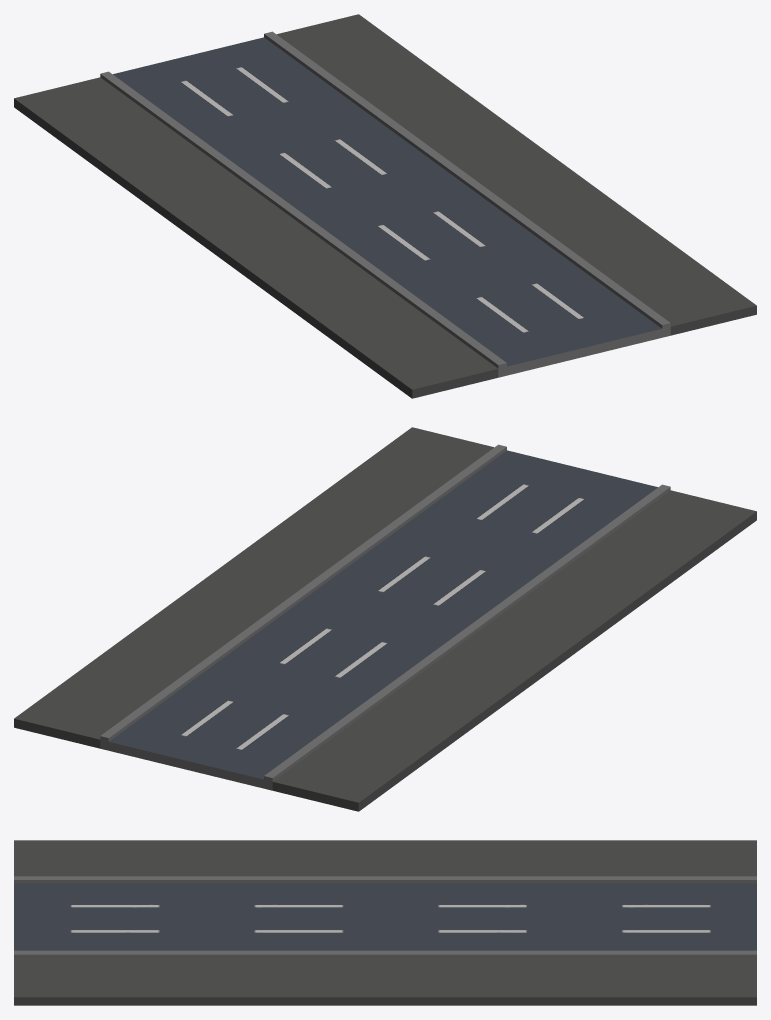
The model's file is roadwithblock2.fbx.
3 renders of one model, top to bottom at view 1: azimuth 30°, elevation 25°; view 2: azimuth 150°, elevation 25°; view 3: azimuth 270°, elevation 25°, orthographic. The views are drawn at different scales.
Visible parts, largest first — view 1: road1; view 2: road1; view 3: road1.
Part boxes in pixels (x1,y1,x2,y2): road1: [14, 14, 756, 398]; road1: [14, 427, 756, 811]; road1: [14, 840, 756, 1005].
Size of the model in its own units: 4 by 0.14 by 8.
